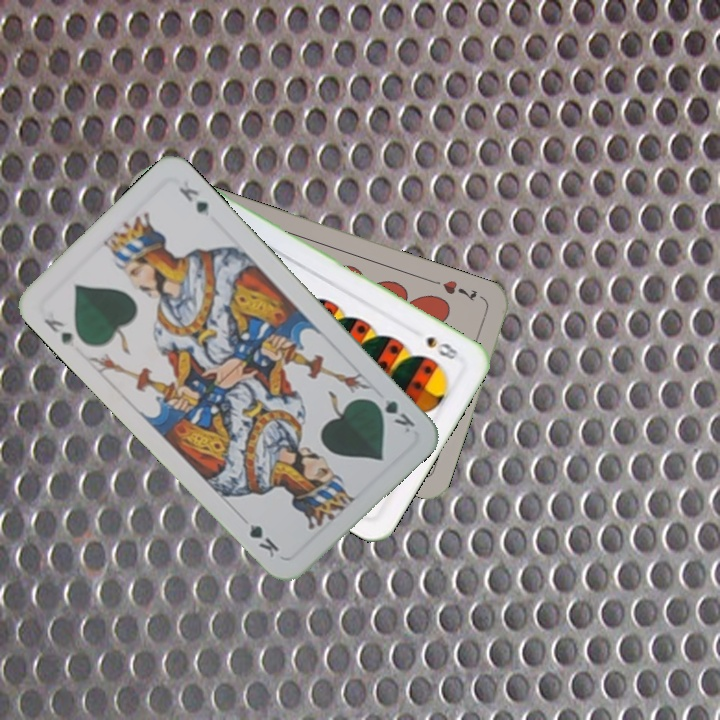GK: (367, 394, 418, 436), (39, 314, 76, 349)
H7: (428, 276, 480, 304)
S8: (422, 332, 461, 364)
